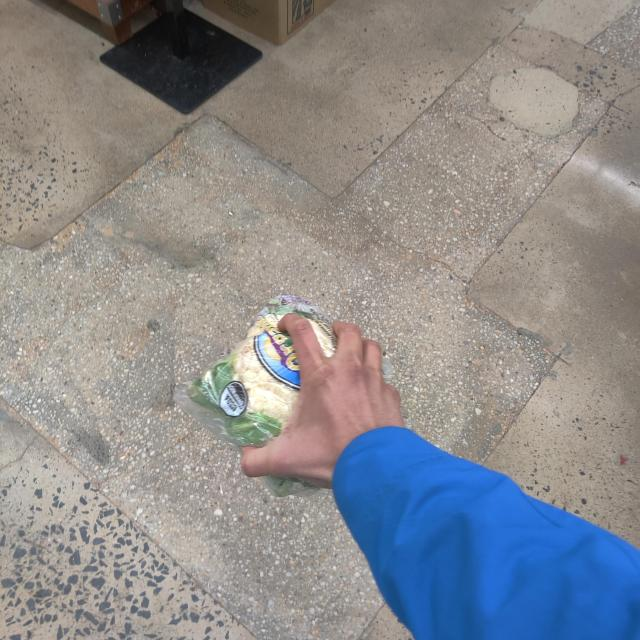Cauliflower: (199, 307, 342, 495)
